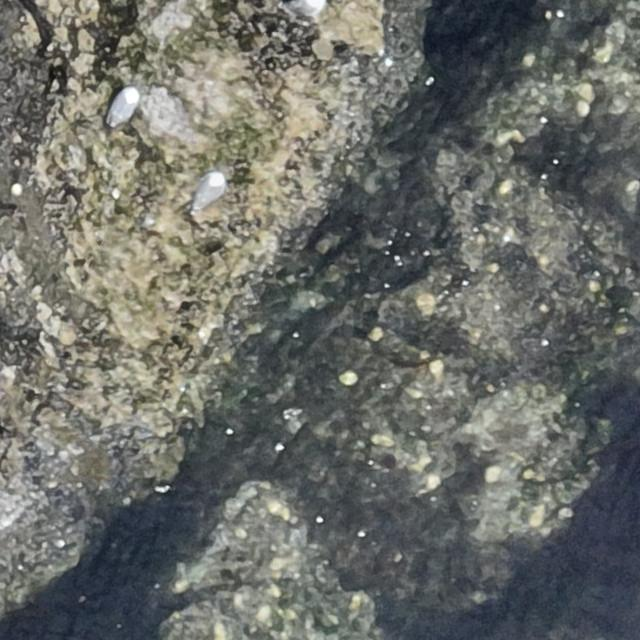umineko: (108, 86, 138, 123), (195, 174, 225, 208)
